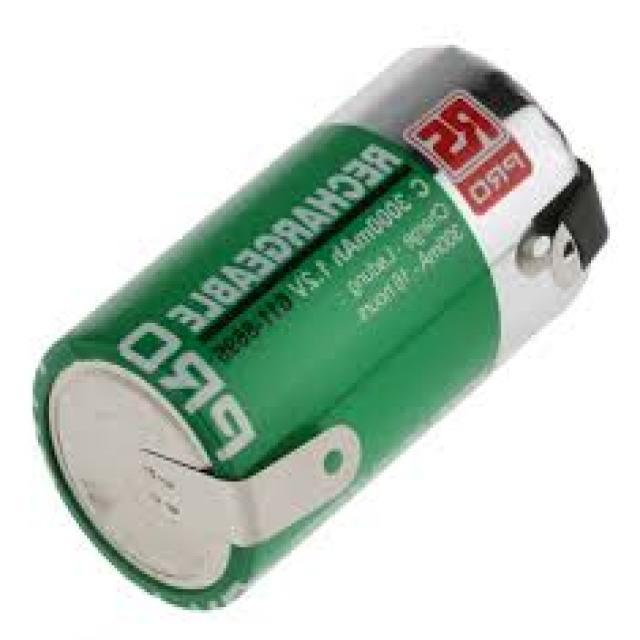battery: (32, 43, 604, 612)
